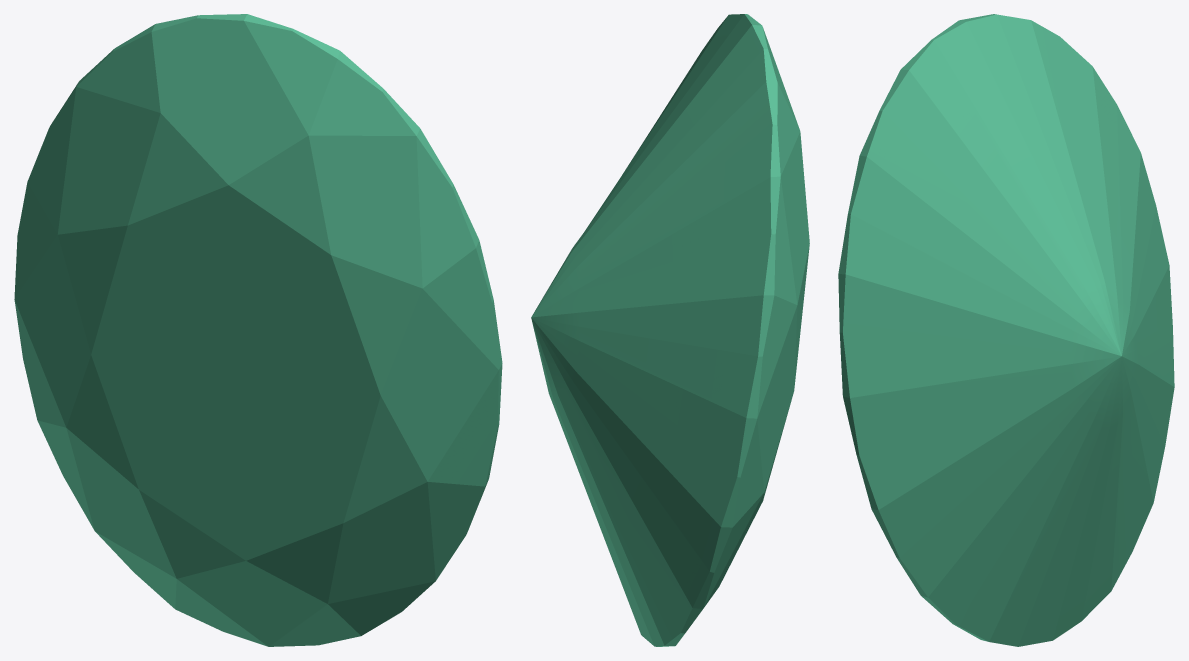
Rendered from TL3_8shapes_Oval_Classic_Stone.001 2.glb.
3 views of the same model, side by side, from view 1: azimuth 30°, elevation 25°; view 2: azimuth 150°, elevation 25°; view 3: azimuth 270°, elevation 25° (orthographic). The views are drawn at different scales.
Parts seen in each view (by area): view 1: TL3_8shapes_Oval_Classic_Stone.001; view 2: TL3_8shapes_Oval_Classic_Stone.001; view 3: TL3_8shapes_Oval_Classic_Stone.001.
Part boxes in pixels (x1,y1,x2,y2): TL3_8shapes_Oval_Classic_Stone.001: (14, 14, 502, 646); TL3_8shapes_Oval_Classic_Stone.001: (531, 14, 809, 646); TL3_8shapes_Oval_Classic_Stone.001: (838, 14, 1174, 646).
Bounding box in the file's own units: 0.3077 × 0.6409 × 0.3319.
